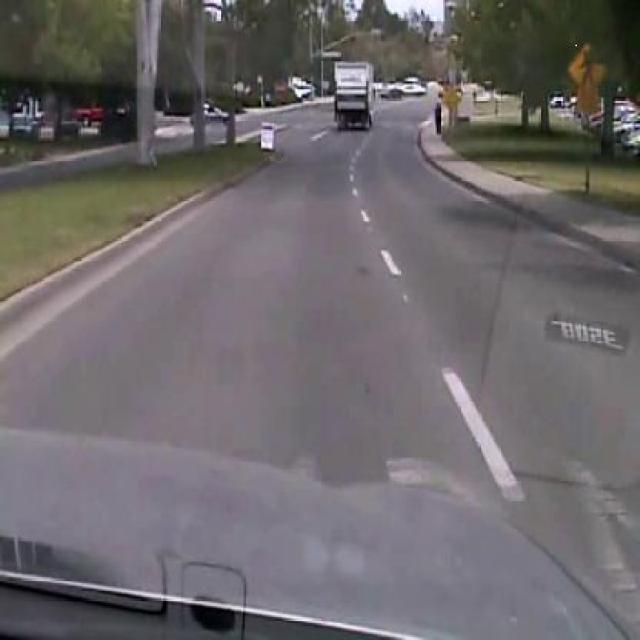pedestrianCrossing: (566, 42, 607, 92)
